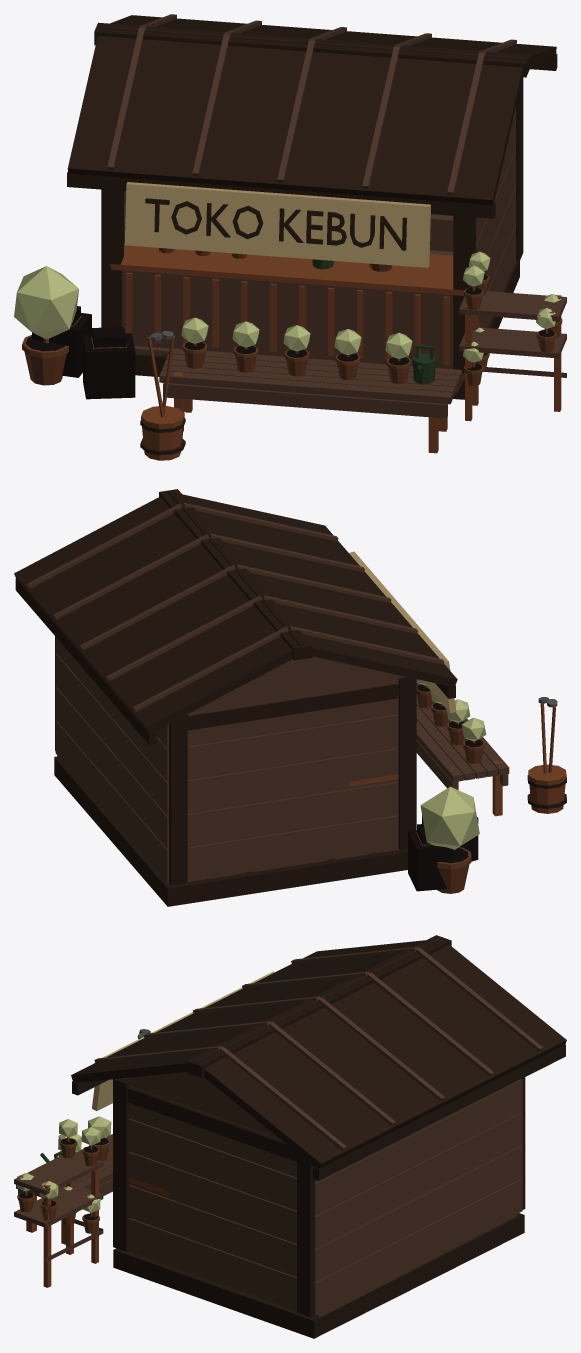
File: toko kebun.fbx
3 renders of one model, top to bottom at view 1: azimuth 30°, elevation 25°; view 2: azimuth 150°, elevation 25°; view 3: azimuth 270°, elevation 25°, orthographic. The views are drawn at different scales.
Parts seen in each view (by area): view 1: Garden_Shop; view 2: Garden_Shop; view 3: Garden_Shop.
Part boxes in pixels (x1,y1,x2,y2): Garden_Shop: [14, 14, 566, 460]; Garden_Shop: [14, 489, 566, 906]; Garden_Shop: [14, 935, 566, 1338].
Bounding box in the file's own units: 493 × 257 × 506.
